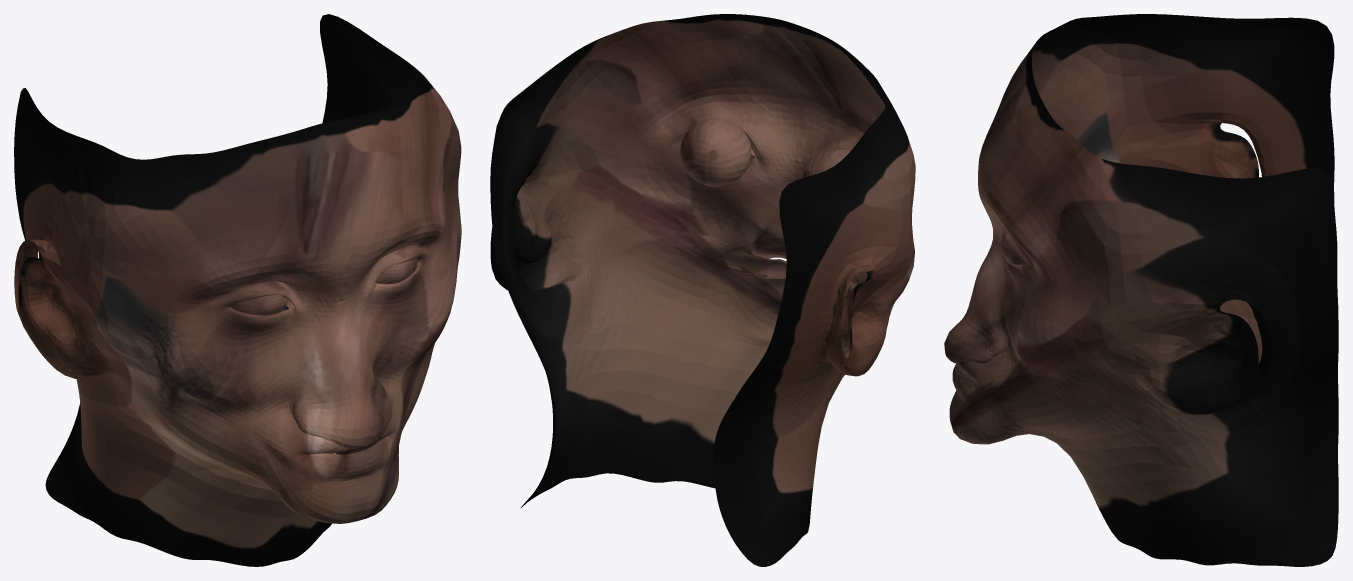
The model's file is baseline.glb.
The picture shows the model from 3 angles, left to right: view 1: azimuth 30°, elevation 25°; view 2: azimuth 150°, elevation 25°; view 3: azimuth 270°, elevation 25°; orthographic projection. The views are drawn at different scales.
Parts seen in each view (by area): view 1: geometry_0; view 2: geometry_0; view 3: geometry_0.
Part boxes in pixels (box(x1,y1,x2,y2)): geometry_0: box(14, 14, 461, 566); geometry_0: box(490, 14, 915, 566); geometry_0: box(944, 14, 1338, 566).
Size of the model in its own units: 0.1711 by 0.2042 by 0.1561.
Materials: 1 (1 with a texture image).
